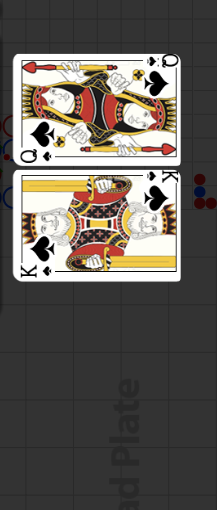9S: (143, 55, 179, 70)
KS: (17, 263, 55, 280)
